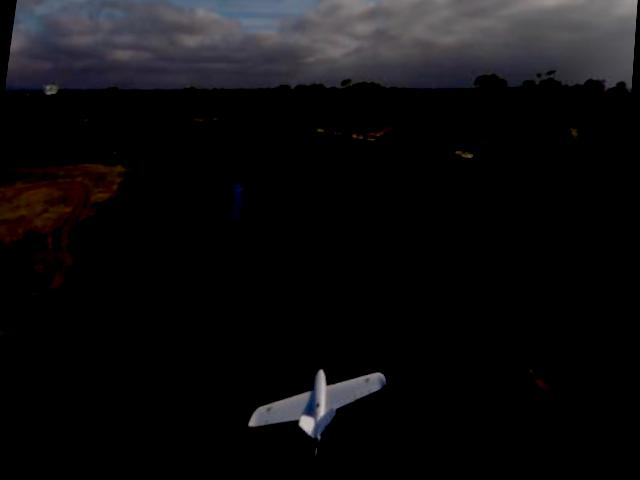uav: (248, 363, 397, 468)
